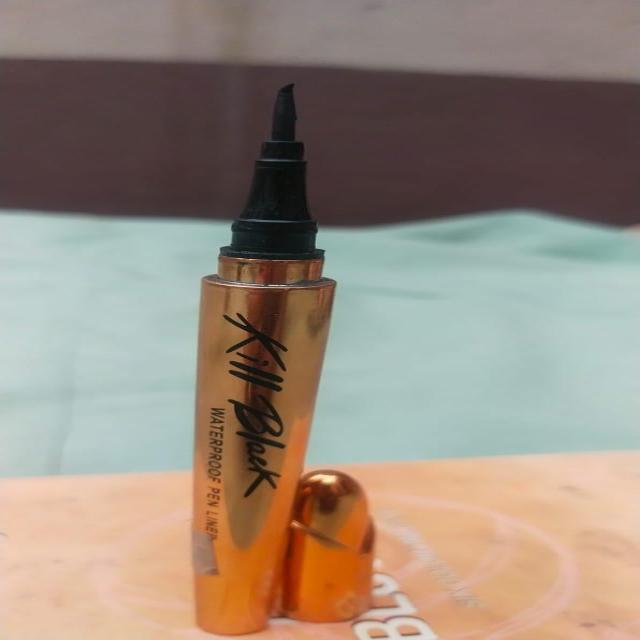eye liner: (162, 65, 389, 640)
